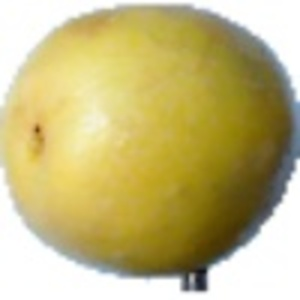maracujá: (1, 1, 300, 293)
